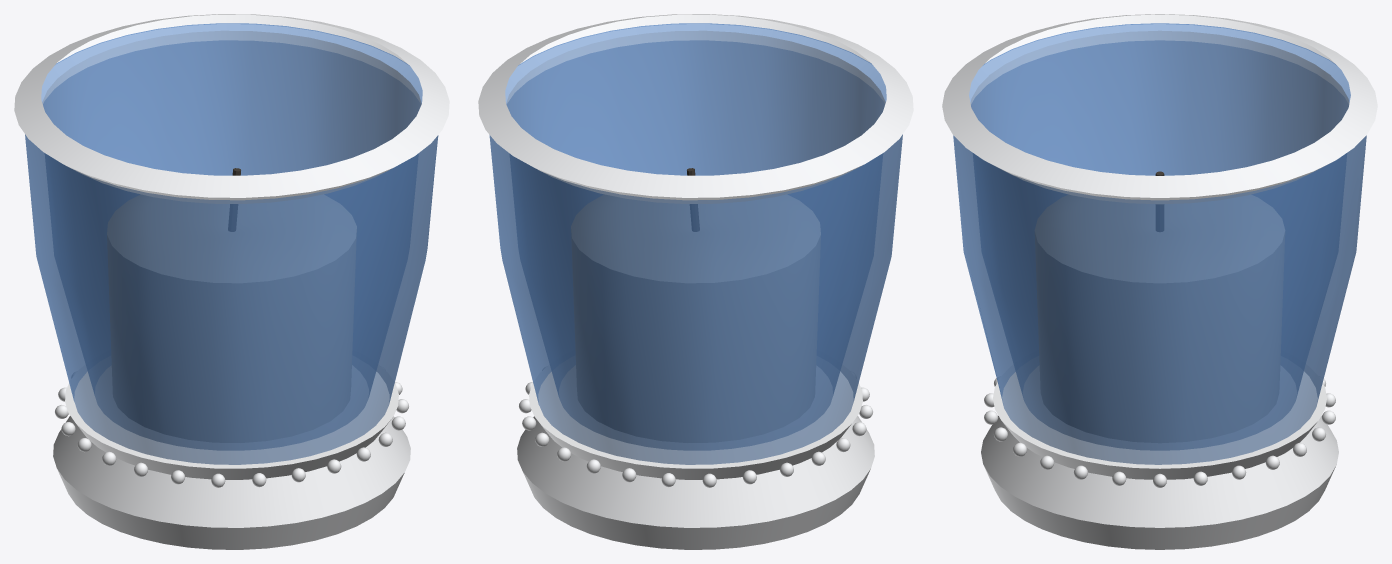
File: votive.glb
3 views of the same model, side by side, from view 1: azimuth 30°, elevation 25°; view 2: azimuth 150°, elevation 25°; view 3: azimuth 270°, elevation 25° (orthographic).
Visible parts, largest first — view 1: Votive_Holder; view 2: Votive_Holder; view 3: Votive_Holder.
Boxes of the visible parts, x1,y1,x2,y2 form: Votive_Holder: (14, 14, 449, 549); Votive_Holder: (478, 14, 913, 549); Votive_Holder: (942, 14, 1377, 549).
Size of the model in its own units: 0.073 by 0.071 by 0.073.
